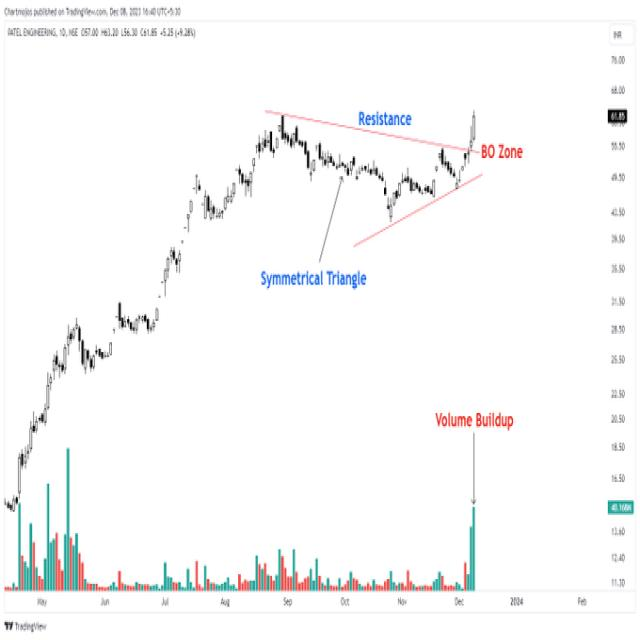Ascending-Triangle: (64, 301, 195, 400)
Rising-Wedge: (132, 113, 300, 290)
Triangle: (253, 113, 501, 244)
